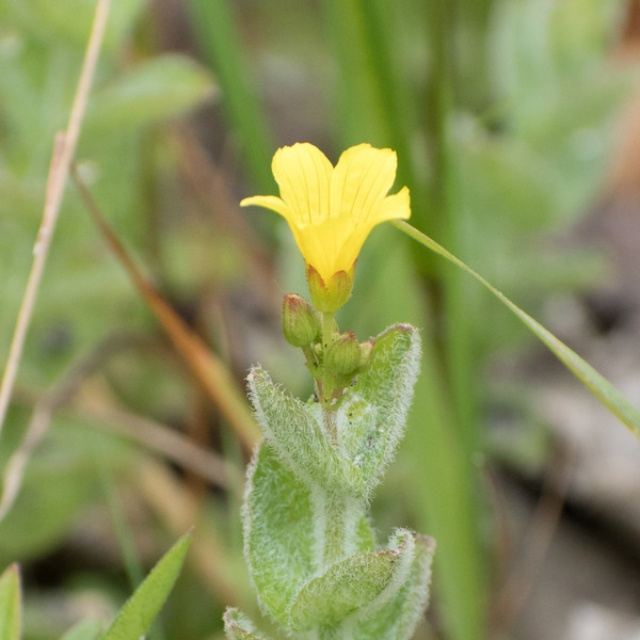obstacle: (199, 139, 473, 626)
